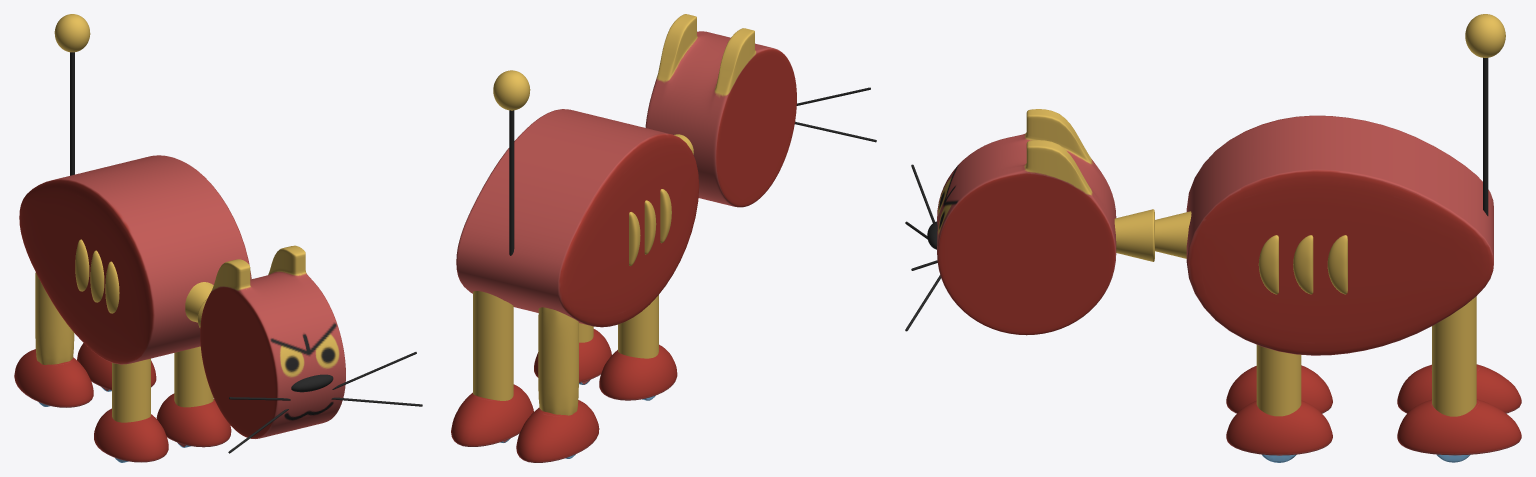
The model's file is CAT.fbx.
The picture shows the model from 3 angles, left to right: view 1: azimuth 30°, elevation 25°; view 2: azimuth 150°, elevation 25°; view 3: azimuth 270°, elevation 25°; orthographic projection. The views are drawn at different scales.
Visible parts, largest first — view 1: polySurface102, pCylinder1, polySurface77, polySurface74, polySurface69, polySurface79, polySurface67, polySurface76, polySurface89, polySurface75, polySurface93, polySurface73 (+4 smaller); view 2: polySurface102, pCylinder1, polySurface83, polySurface79, polySurface77, polySurface75, polySurface74, polySurface67, polySurface69, polySurface89, polySurface73, polySurface108 (+2 smaller); view 3: polySurface102, pCylinder1, polySurface75, polySurface83, polySurface69, polySurface76, polySurface77, polySurface74, polySurface78, polySurface89, polySurface93, polySurface112 (+3 smaller).
Part boxes in pixels (box(x1,y1,x2,y2)): polySurface102: box(19, 155, 251, 364); pCylinder1: box(200, 245, 345, 438); polySurface77: box(14, 349, 93, 407); polySurface74: box(94, 408, 168, 462); polySurface69: box(156, 393, 231, 447); polySurface79: box(35, 272, 74, 364); polySurface67: box(112, 358, 150, 422); polySurface76: box(174, 346, 213, 407); polySurface89: box(54, 14, 90, 52); polySurface75: box(77, 343, 156, 390); polySurface93: box(185, 282, 213, 322); polySurface73: box(70, 52, 74, 175); polySurface102: box(456, 109, 699, 327); pCylinder1: box(645, 14, 796, 207); polySurface83: box(473, 291, 513, 400); polySurface79: box(538, 307, 578, 415); polySurface77: box(516, 400, 599, 462); polySurface75: box(451, 384, 533, 446); polySurface74: box(599, 344, 677, 400); polySurface67: box(618, 295, 658, 358); polySurface69: box(534, 329, 611, 382); polySurface89: box(493, 70, 530, 110); polySurface73: box(509, 110, 514, 255); polySurface108: box(644, 200, 656, 254); polySurface102: box(1186, 115, 1493, 355); pCylinder1: box(937, 109, 1116, 335); polySurface75: box(1397, 399, 1521, 455); polySurface83: box(1432, 296, 1476, 416); polySurface69: box(1226, 400, 1332, 455); polySurface76: box(1256, 345, 1301, 416); polySurface77: box(1397, 364, 1521, 413); polySurface74: box(1226, 365, 1332, 413); polySurface78: box(1114, 209, 1154, 261); polySurface89: box(1465, 14, 1505, 57); polySurface93: box(1155, 211, 1191, 258); polySurface112: box(1293, 235, 1313, 294).
Size of the model in its own units: 279 by 508 by 672.
